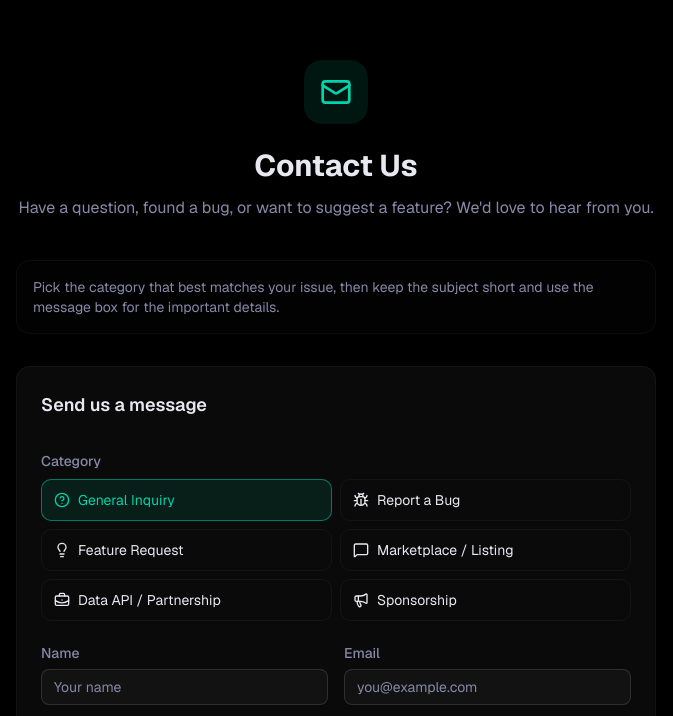
Test case: ContactContent › surfaces server-side failures instead of pretending the message was sent
The image size is (673, 716).
Type "Harshit" into the field labelled "Name" at (184, 687), box [41,669,328,705]
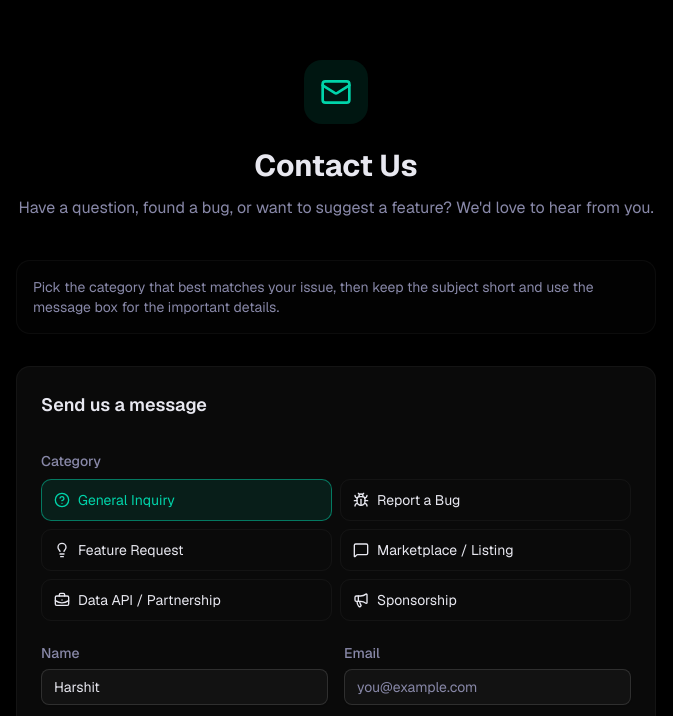
Type "harshit@example.com" into the field labelled "Email" at (488, 687), box [344,669,631,705]
(page scrolled)
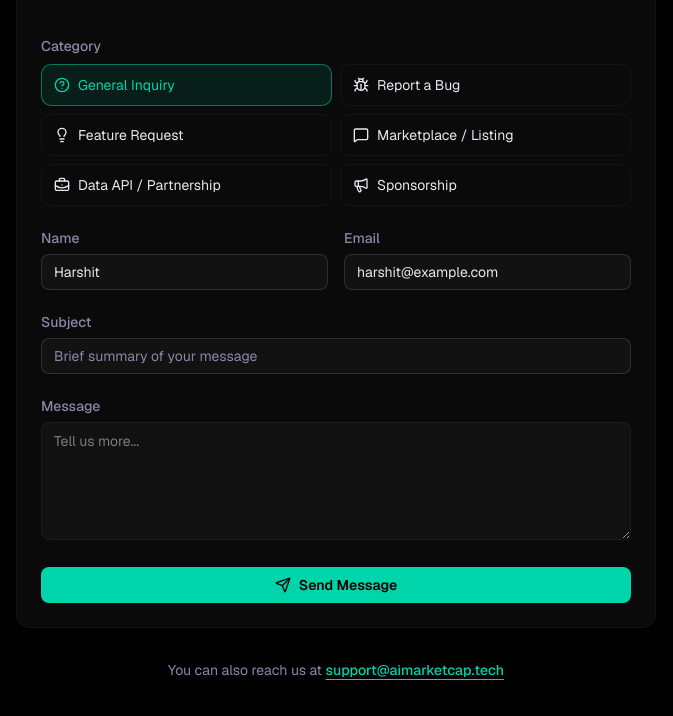
Type "Need help" into the field labelled "Subject" at (336, 356), box [41,338,631,374]
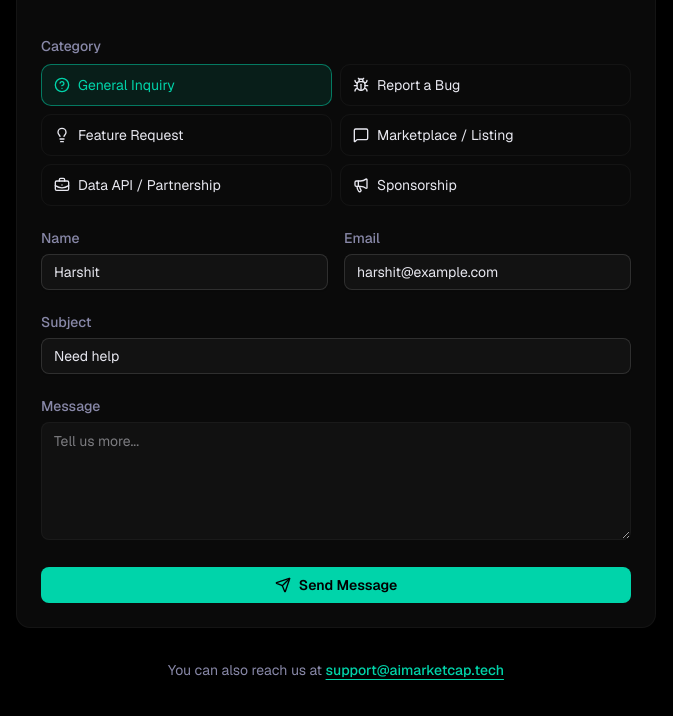
Type "Need help with the site." into the text box labelled "Message" at (336, 481), box [41,422,631,540]
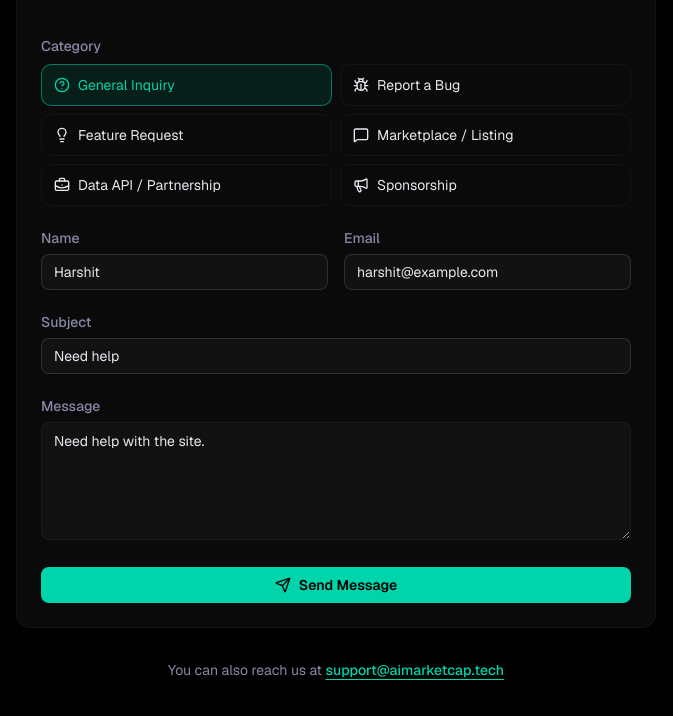
Click the button "Send Message" at (336, 585), box [41,567,631,603]
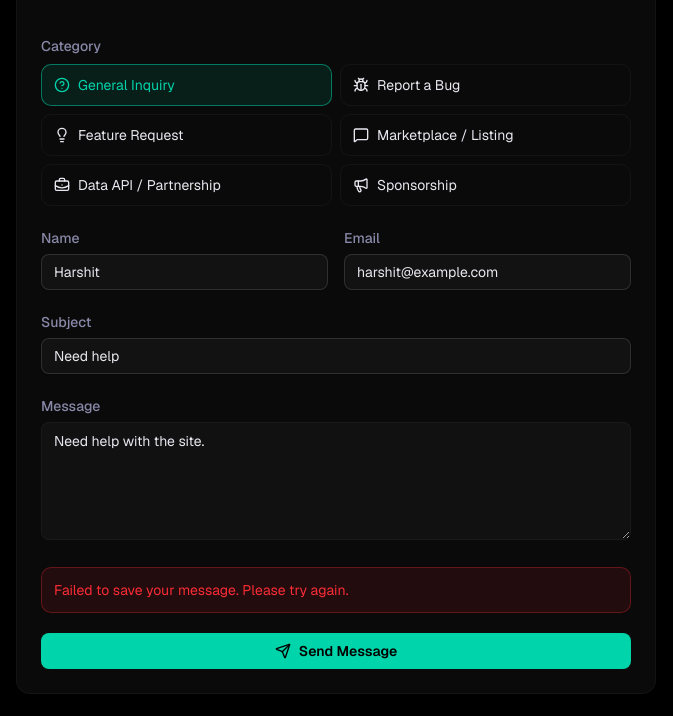
Result: the text "Failed to save your message. Please try again." is shown at [54,581,348,599]
